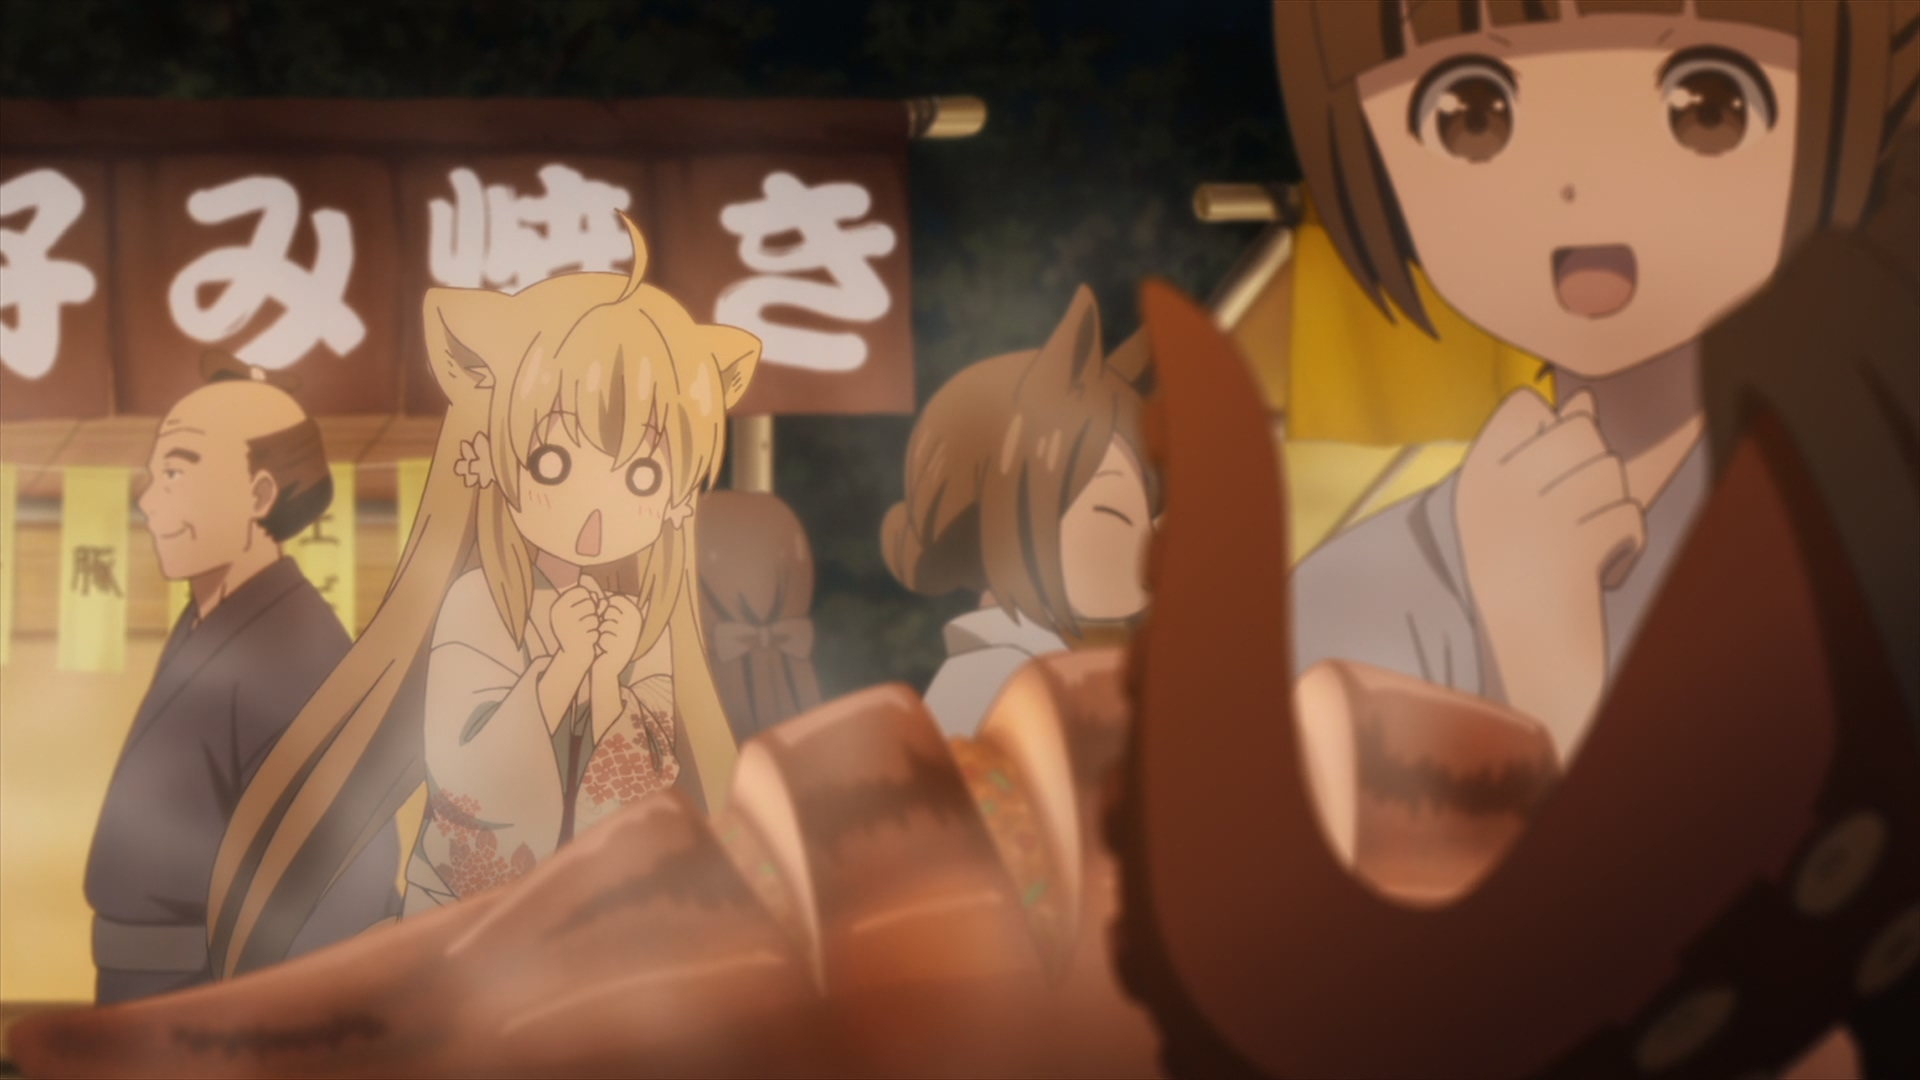其他: (1276, 1, 1920, 767), (84, 365, 405, 1013), (882, 284, 1164, 741), (698, 487, 829, 744)
柚: (206, 208, 760, 988)
